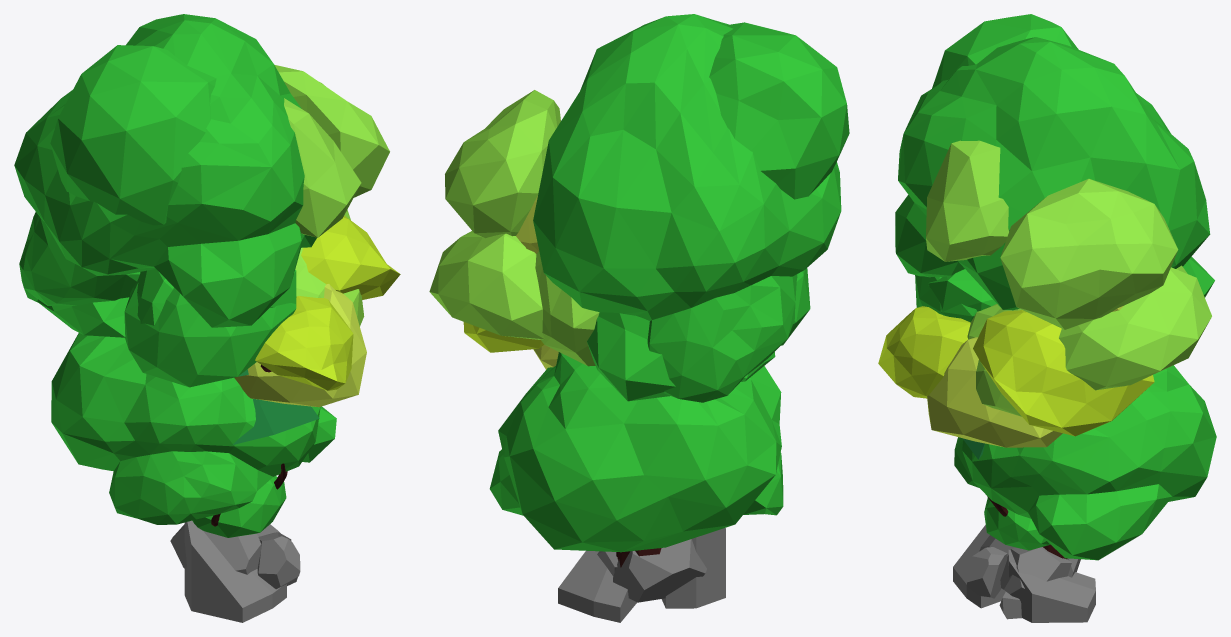
The model's file is Lowpoly_trees.fbx.
3 renders of one model, left to right at view 1: azimuth 30°, elevation 25°; view 2: azimuth 150°, elevation 25°; view 3: azimuth 270°, elevation 25°, orthographic. The views are drawn at different scales.
Parts seen in each view (by area): view 1: tree5_Cube.022, tree1_Icosphere.023, tree3_Icosphere.008, tree5_Cube.021, Rock Type5 03 mesh.001, Rock Type2 01 mesh.001, tree1_Icosphere.025, conifer5_Cylinder.004; view 2: tree5_Cube.022, tree3_Icosphere.008, tree1_Icosphere.023, tree5_Cube.021, Rock Type5 03 mesh.001, Rock Type2 01 mesh.001; view 3: tree5_Cube.022, tree3_Icosphere.008, tree5_Cube.021, tree1_Icosphere.023, Rock Type5 03 mesh.001, Rock Type2 01 mesh.001, tree1_Icosphere.025.
Part boxes in pixels (x1,y1,x2,y2): tree5_Cube.022: (14,14,400,327); tree1_Icosphere.023: (50,45,366,407); tree3_Icosphere.008: (51,333,336,526); tree5_Cube.021: (37,210,364,390); Rock Type5 03 mesh.001: (184,520,297,622); Rock Type2 01 mesh.001: (170,524,300,589); tree1_Icosphere.025: (192,476,286,537); conifer5_Cylinder.004: (232,369,319,445); tree5_Cube.022: (445,14,841,402); tree3_Icosphere.008: (489,352,783,552); tree1_Icosphere.023: (516,22,849,567); tree5_Cube.021: (429,231,797,556); Rock Type5 03 mesh.001: (558,528,725,622); Rock Type2 01 mesh.001: (597,539,706,602); tree5_Cube.022: (895,37,1210,436); tree3_Icosphere.008: (954,365,1216,560); tree5_Cube.021: (878,265,1211,558); tree1_Icosphere.023: (915,14,1214,559); Rock Type5 03 mesh.001: (953,525,1095,622); Rock Type2 01 mesh.001: (966,535,1080,598); tree1_Icosphere.025: (984,497,1049,550).
Size of the model in its own units: 1390 by 2222 by 1268.
